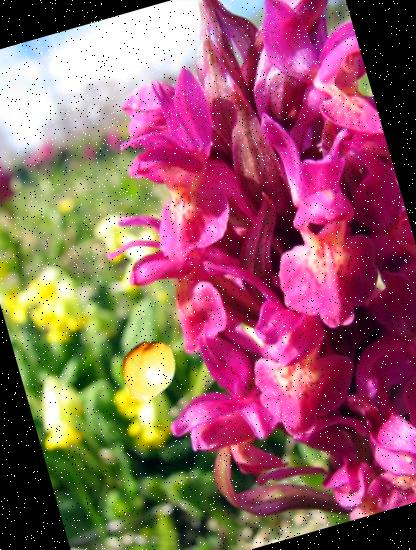Quince: (108, 332, 188, 412)
